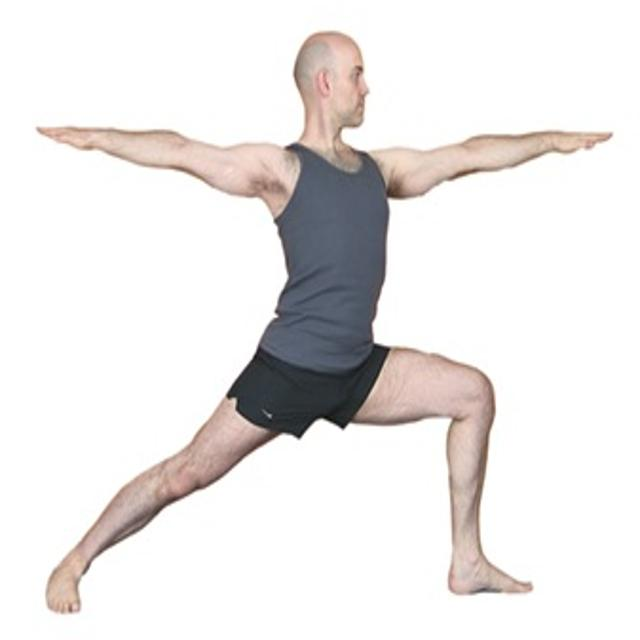Warrior_II: (32, 29, 619, 612)
